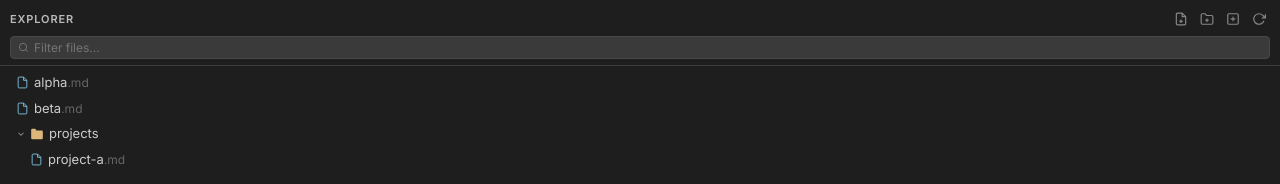
Test: FileTree › rename › shows rename input on hover → rename button click
Expected: the text "alpha" is shown, [34,74,67,90]
Hover over the text "alpha".
mouse_move(52, 82)  # box [16,74,89,90]
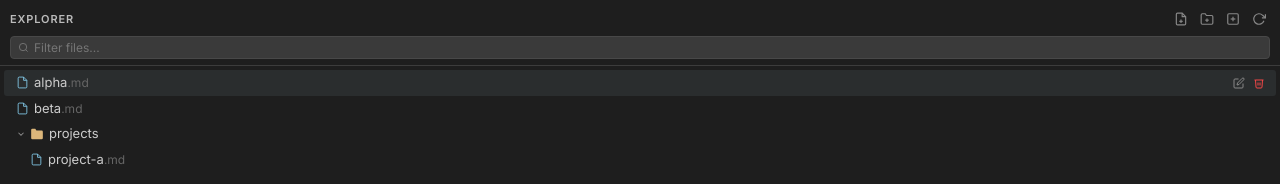
Click the button titled "Rename".
click(1239, 83)  # box [1230,74,1248,92]
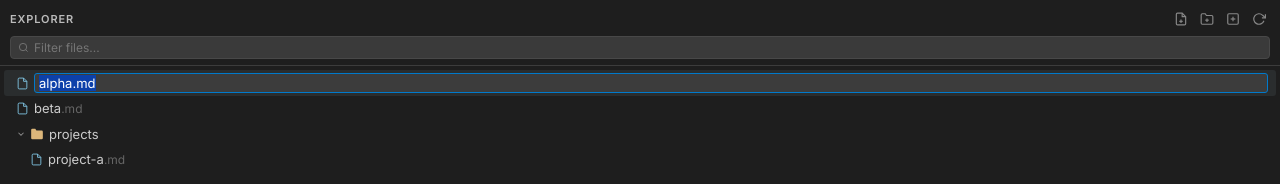
Now the 2nd field holds "alpha.md", box [34,73,1268,93]
